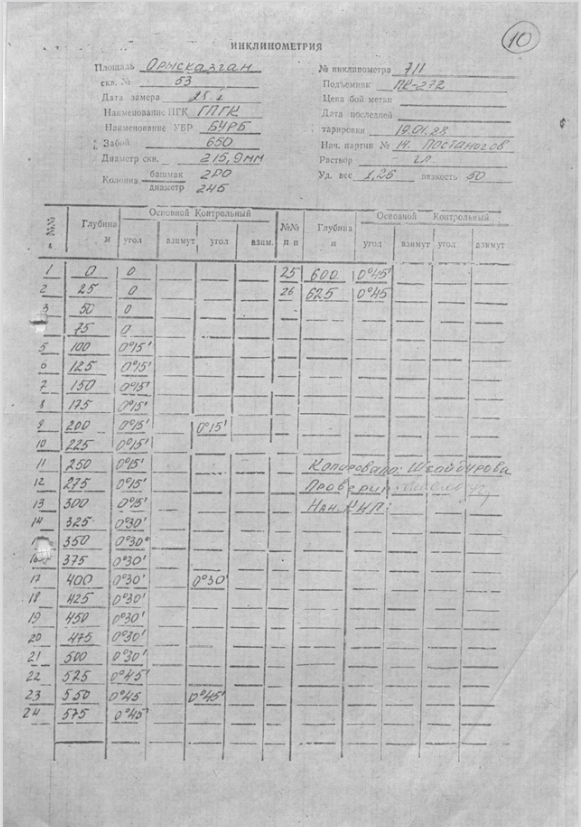Borderless: (23, 203, 537, 762)
